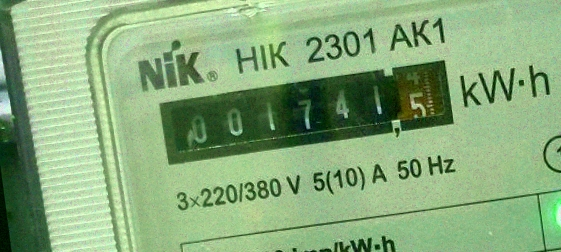0: (223, 103, 246, 139), (188, 110, 211, 145)
1: (258, 96, 280, 134), (367, 81, 387, 118)
4: (329, 84, 354, 122), (404, 67, 422, 87)
5: (405, 87, 428, 120)
7: (294, 94, 316, 131)
screen: (151, 52, 462, 171)
